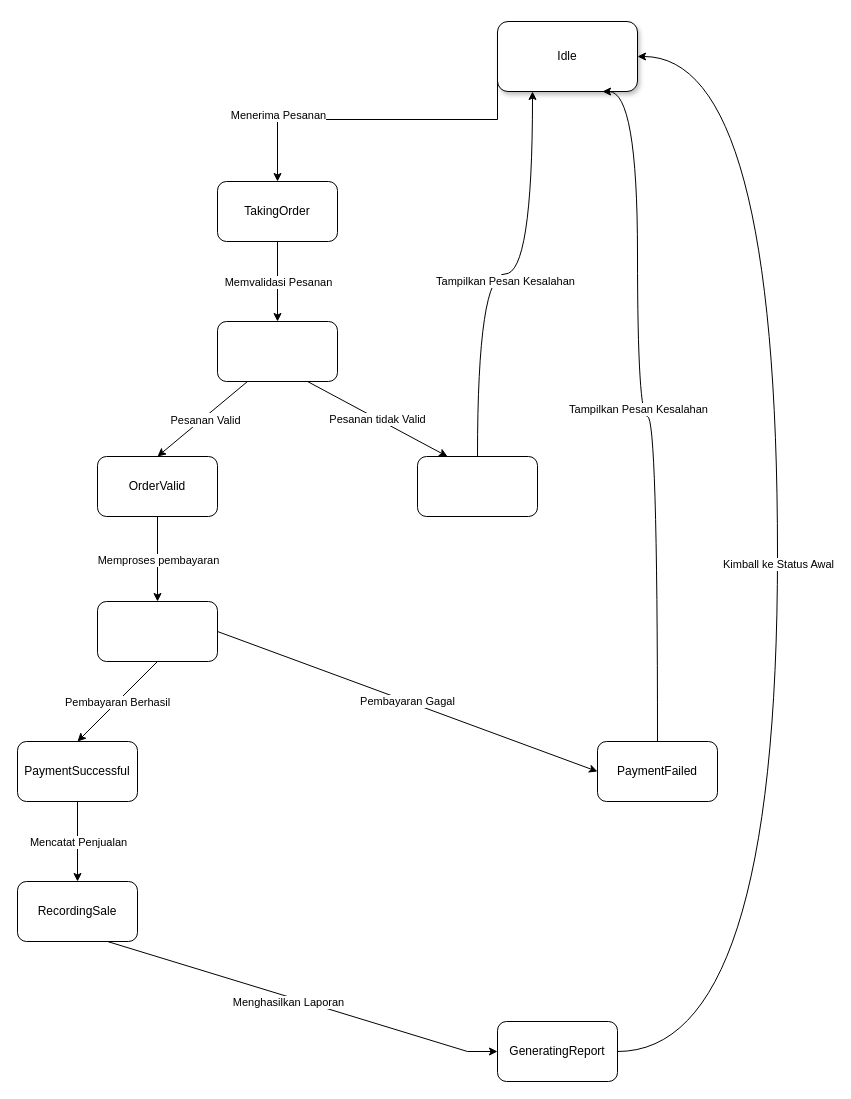
Image size: 851x1099. Some labels were removed from this diagram. The centre of each missing label's shape, as x and y in pixels:
OrderInvalid: (x=477, y=486)
ProcessingPayment: (x=157, y=631)
ValidatingOrder: (x=277, y=351)
